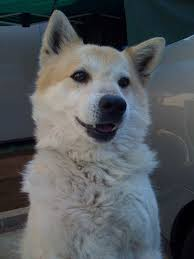dog: (23, 10, 162, 259)
